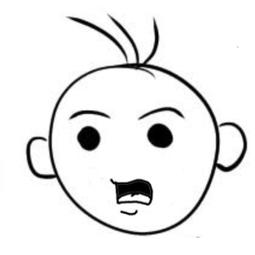ear: (211, 120, 249, 174), (21, 134, 58, 181)
eye: (144, 121, 175, 156), (72, 124, 101, 153)
eyebrow: (133, 103, 186, 122), (66, 108, 112, 122)
open_mouth: (108, 172, 158, 210)
